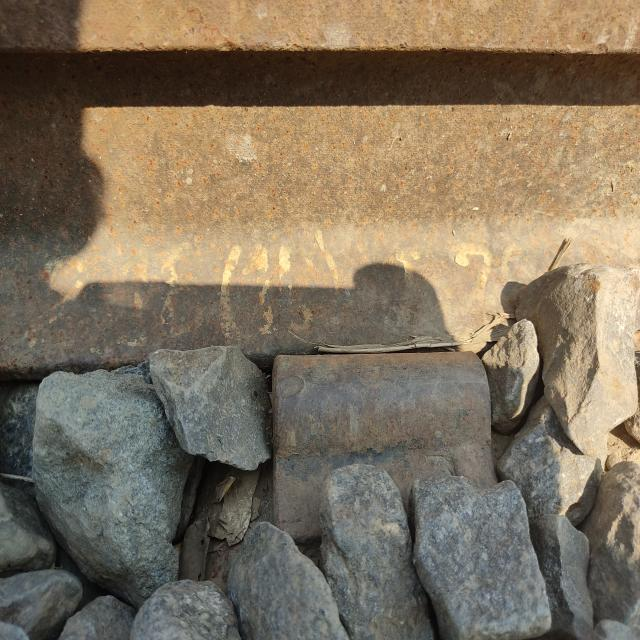fault: (269, 337, 508, 563)
